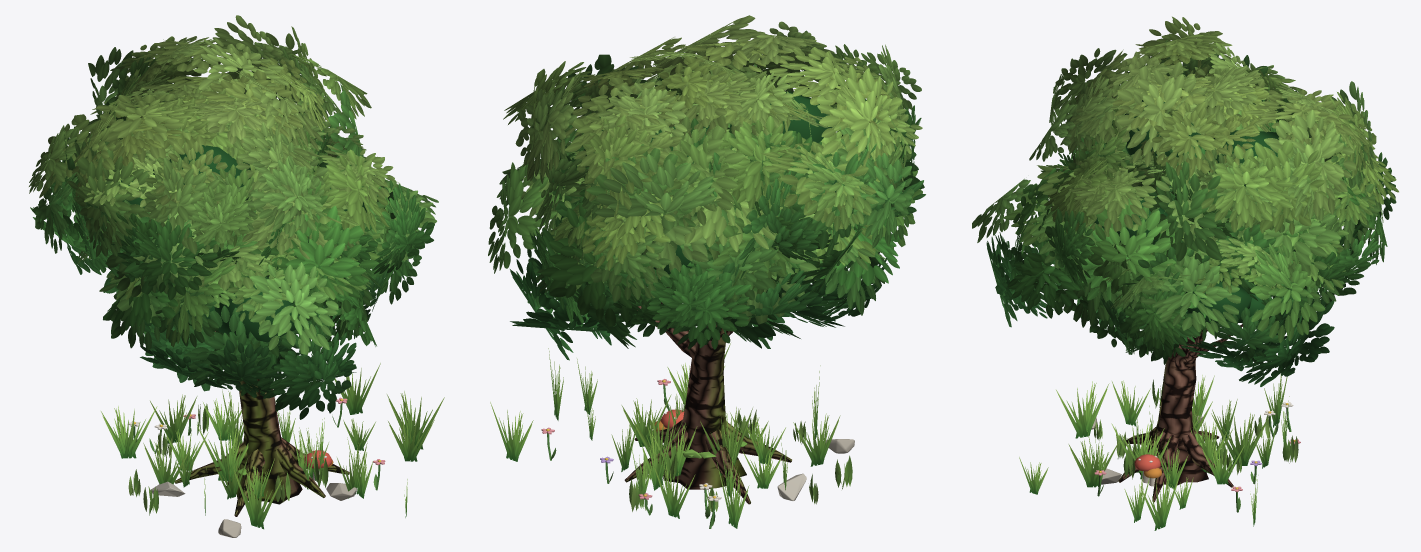
The model's file is tree_blossom_lod1.gltf.
3 renders of one model, left to right at view 1: azimuth 30°, elevation 25°; view 2: azimuth 150°, elevation 25°; view 3: azimuth 270°, elevation 25°, orthographic. The views are drawn at different scales.
Visible parts, largest first — view 1: Canopy_summer, Undergrowth, Trunk, Base; view 2: Canopy_summer, Undergrowth, Trunk, Base; view 3: Canopy_summer, Undergrowth, Trunk, Base.
Part boxes in pixels (x1,y1,x2,y2): Canopy_summer: [29, 15, 438, 419]; Undergrowth: [101, 363, 444, 529]; Trunk: [175, 331, 349, 516]; Base: [128, 397, 385, 537]; Canopy_summer: [488, 15, 925, 360]; Undergrowth: [490, 343, 840, 528]; Trunk: [624, 302, 791, 504]; Base: [541, 379, 854, 528]; Canopy_summer: [972, 16, 1398, 386]; Undergrowth: [1019, 374, 1289, 530]; Trunk: [1118, 324, 1242, 502]; Base: [1082, 379, 1300, 512].
Bounding box in the file's own units: 4.69 × 4.96 × 4.87.
Materials: 19 (2 with a texture image).
